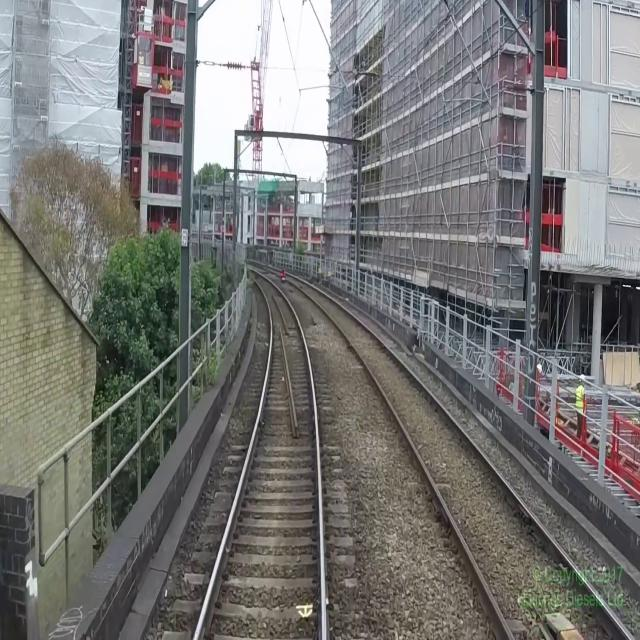rail-track: (257, 263, 627, 639), (198, 270, 321, 639)
